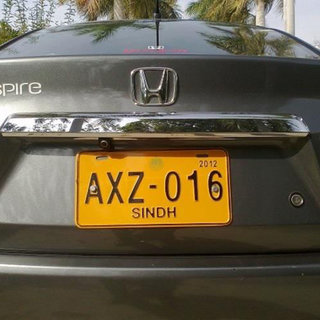number_plate: (74, 148, 233, 228)
